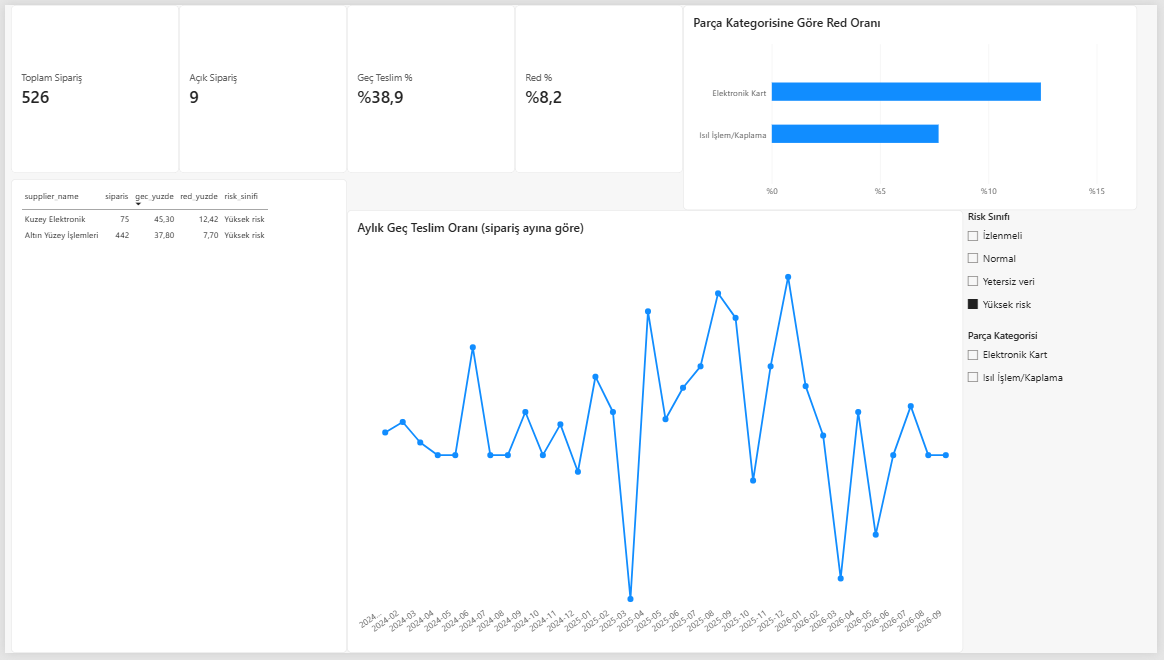

Layout of this report page (visuals, bound fields, positions):
{"tool":"powerbi","page":{"name":"1. sayfa","canvas":[1920,1080],"ordinal":0},"visuals":[{"type":"cardVisual","fields":{"Data":["v_order_facts.Toplam Sipariş Gösterim"]},"box":[10,0,280,280],"z":2},{"type":"cardVisual","fields":{"Data":["v_order_facts.Açık Sipariş"]},"box":[290,0,280,280],"z":3},{"type":"cardVisual","fields":{"Data":["v_order_facts.Geç Teslim %"]},"box":[570,0,280,280],"z":4},{"type":"cardVisual","fields":{"Data":["v_order_facts.Red %"]},"box":[850,0,280,280],"z":5},{"type":"tableEx","fields":{"Values":["v_supplier_scorecard.supplier_name","v_supplier_scorecard.siparis","v_supplier_scorecard.gec_yuzde","v_supplier_scorecard.red_yuzde","v_supplier_scorecard.risk_sinifi"]},"box":[10,290,560,790],"z":6},{"type":"lineChart","title":"Aylık Geç Teslim Oranı (sipariş ayına göre)","fields":{"Category":["v_order_facts.siparis_ayi"],"Y":["v_order_facts.Geç Teslim %"]},"box":[570,341.7,1026.7,738.3],"z":7},{"type":"clusteredBarChart","title":"Parça Kategorisine Göre Red Oranı","fields":{"Category":["v_order_facts.parca_kategori"],"Y":["v_order_facts.Red %"]},"box":[1130,0,756.7,341.7],"z":8},{"type":"slicer","fields":{"Values":["v_supplier_scorecard.risk_sinifi"]},"box":[1596.7,341.7,323.3,198.3],"z":9},{"type":"slicer","fields":{"Values":["v_order_facts.parca_kategori"]},"box":[1597,540,323,540],"z":10}]}

Visuals, with their boxes in screenshot pixels (x1, y1, x2, y2), scaled from the page's 1920x1080 canvas onto the 1164x660 screenshot:
cardVisual - v_order_facts.Toplam Sipariş Gösterim: crop(6, 0, 176, 171)
cardVisual - v_order_facts.Açık Sipariş: crop(176, 0, 346, 171)
cardVisual - v_order_facts.Geç Teslim %: crop(346, 0, 515, 171)
cardVisual - v_order_facts.Red %: crop(515, 0, 685, 171)
tableEx - v_supplier_scorecard.supplier_name x v_supplier_scorecard.siparis: crop(6, 177, 346, 659)
"Aylık Geç Teslim Oranı (sipariş ayına göre)" lineChart: crop(346, 209, 968, 659)
"Parça Kategorisine Göre Red Oranı" clusteredBarChart: crop(685, 0, 1144, 209)
slicer - v_supplier_scorecard.risk_sinifi: crop(968, 209, 1163, 330)
slicer - v_order_facts.parca_kategori: crop(968, 330, 1163, 659)
